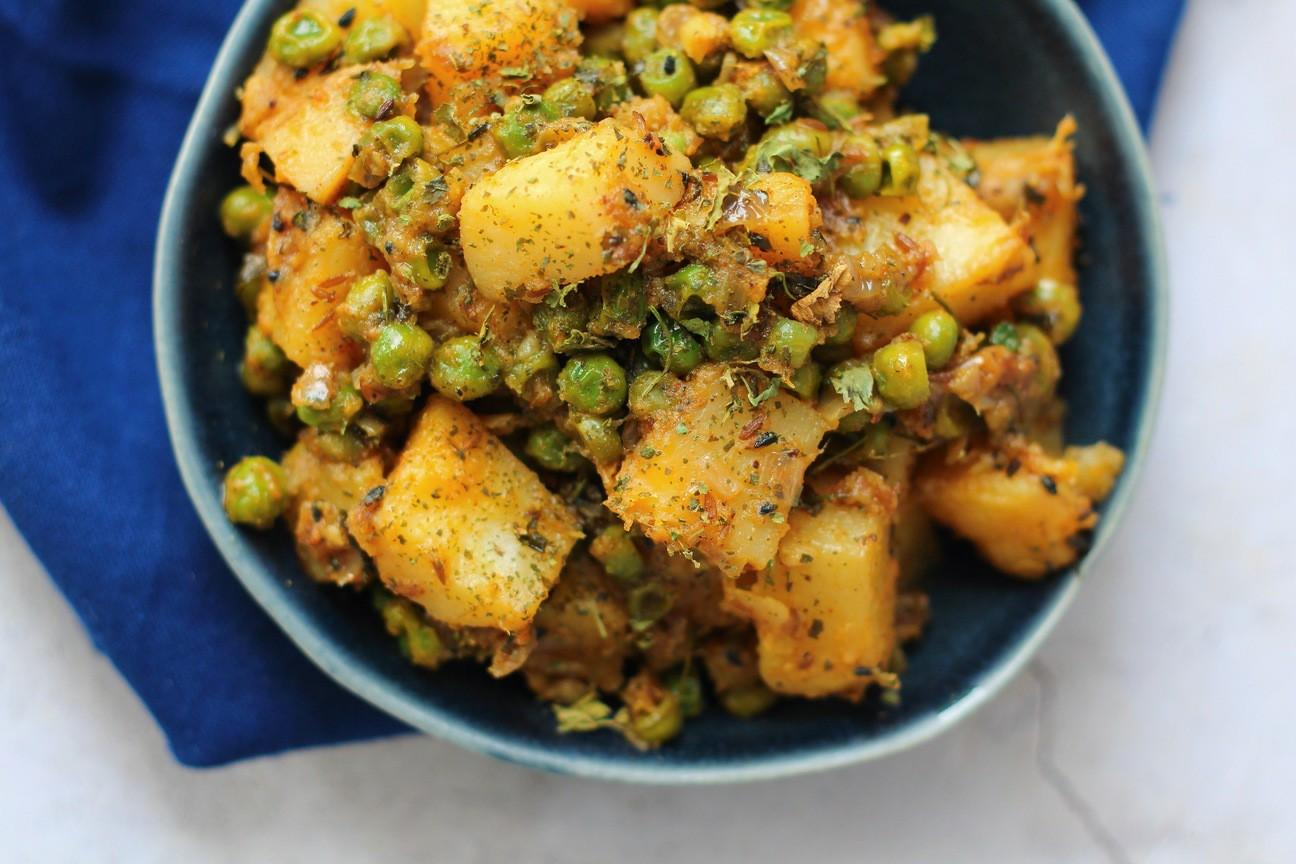AlooMasala: (219, 0, 1121, 746)
